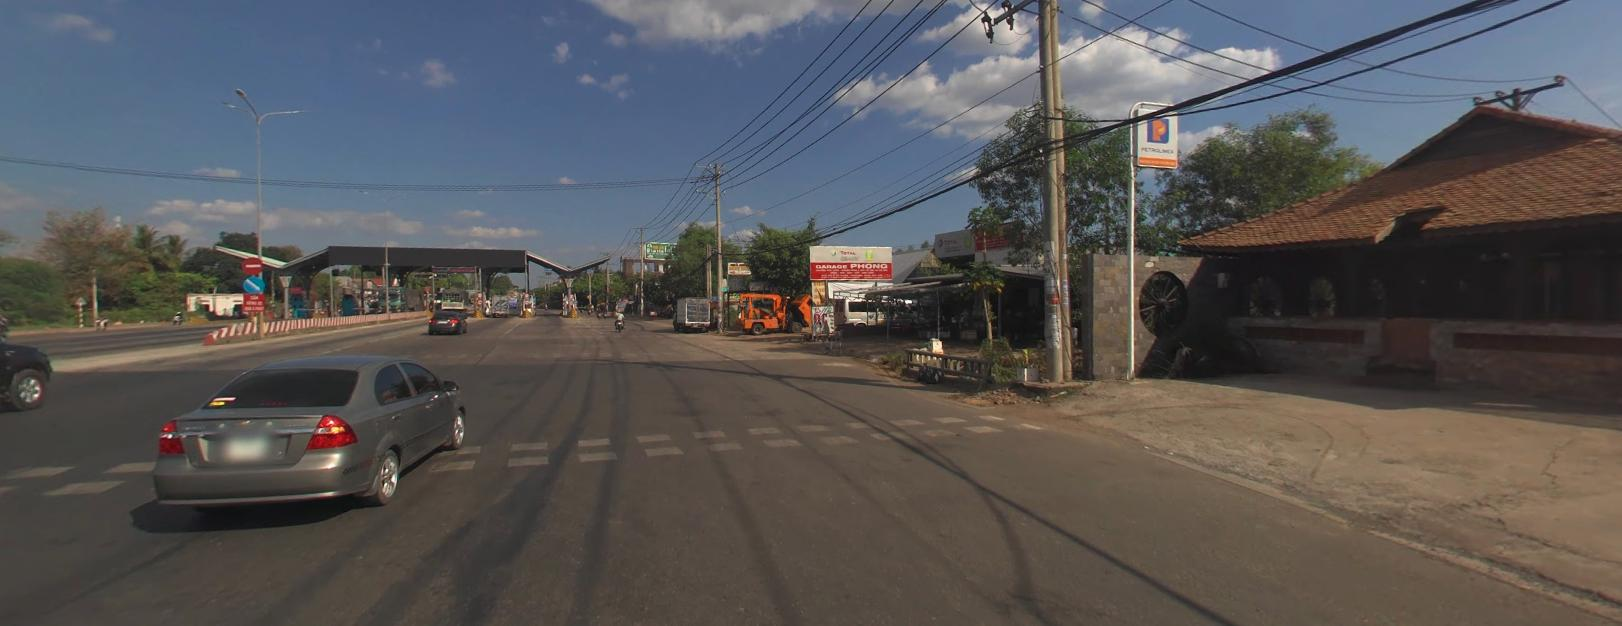Cam nguoc chieu: (243, 255, 262, 272)
Hieu lenh: (242, 275, 263, 291)
